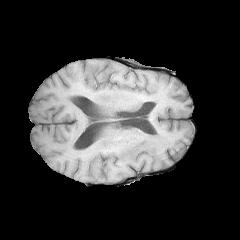glioma: (94, 129, 173, 177)
